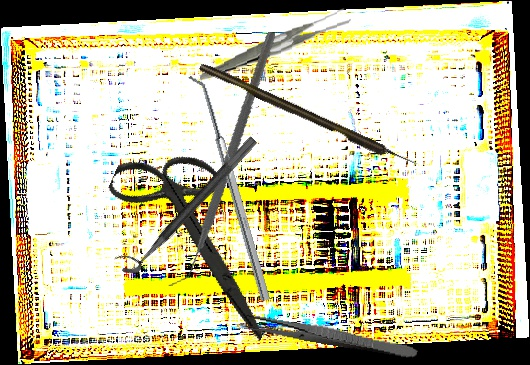Chopper: (116, 31, 325, 287)
Dressing Forceps: (194, 7, 356, 81), (241, 311, 420, 361)
Fixation Ring: (111, 125, 259, 280)
Hook Surgical: (198, 60, 419, 172)
Iris Scissors: (75, 130, 318, 343)
Spatula Surgical: (187, 72, 271, 304)
